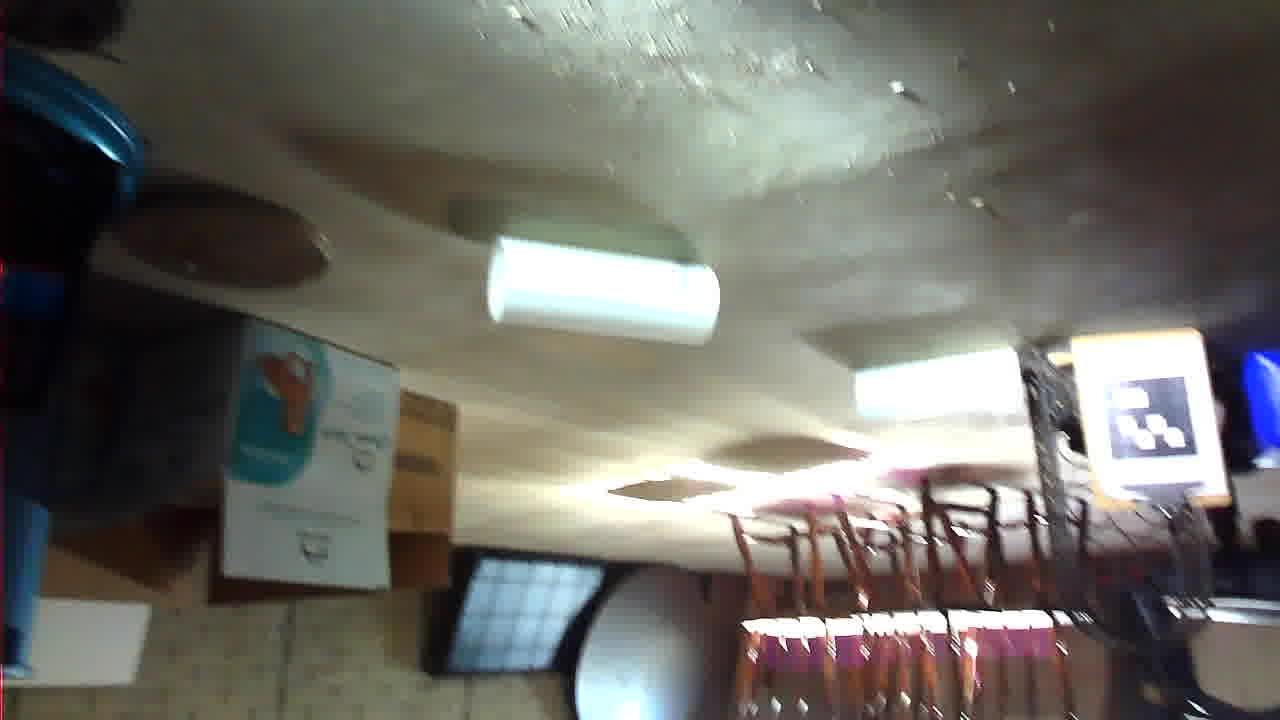coral: (560, 374, 792, 485)
